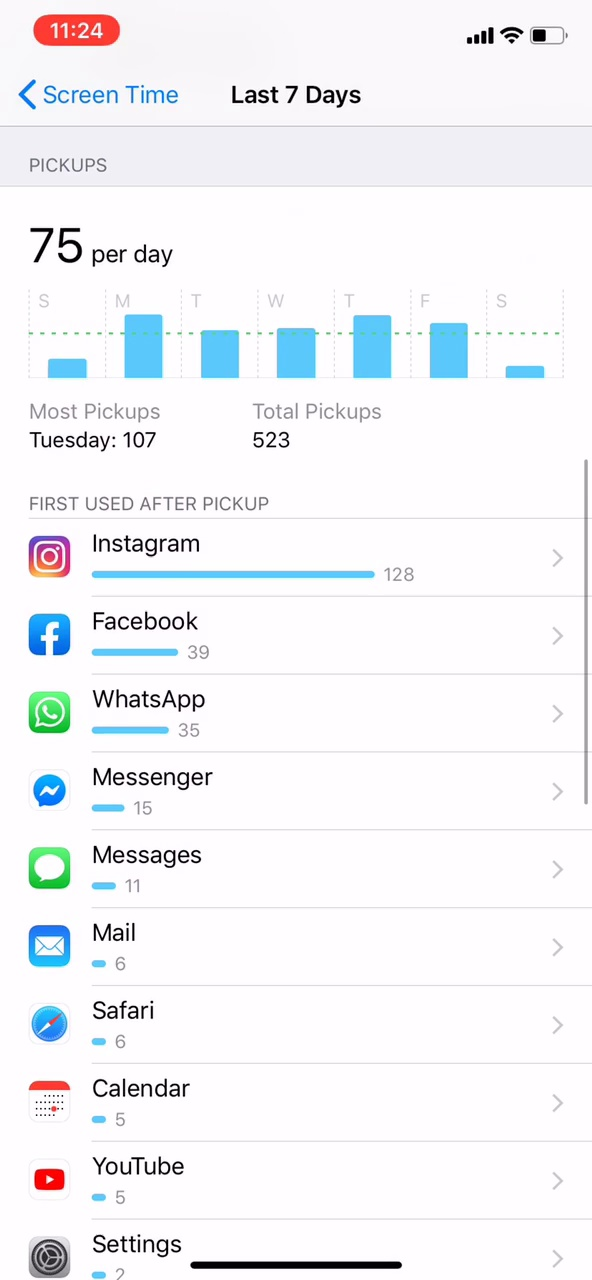pick_app: (23, 517, 454, 591), (20, 1071, 250, 1138), (25, 671, 234, 744), (23, 757, 245, 825), (20, 996, 250, 1058), (26, 835, 236, 902), (25, 599, 231, 666), (23, 916, 232, 982), (20, 1152, 226, 1211)
pick_over: (14, 399, 443, 471)
week: (204, 73, 382, 116)
